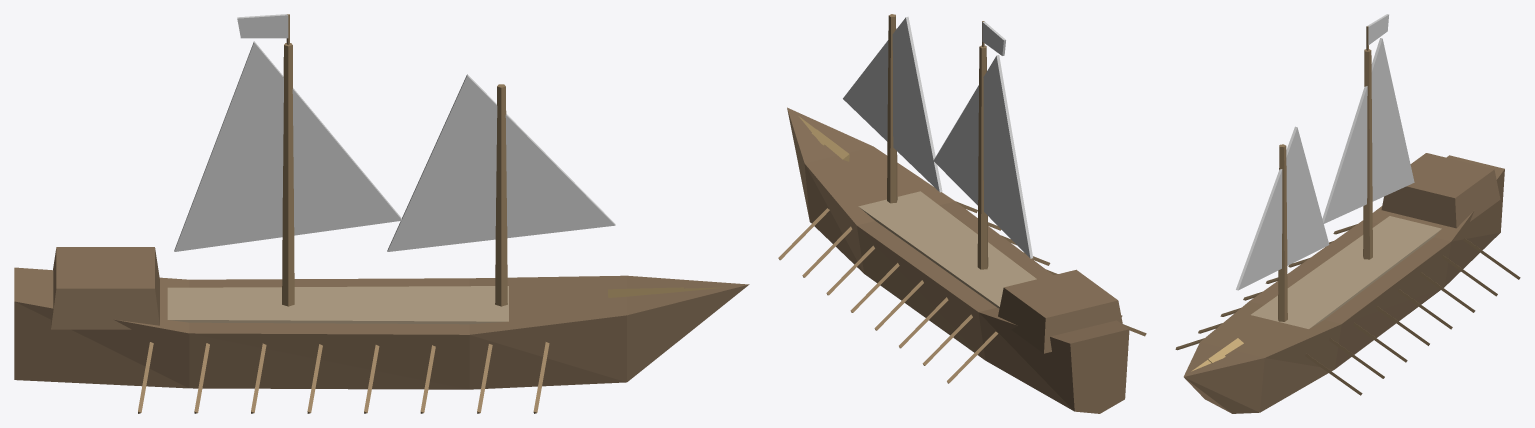
Rendered from galleass.glb.
The picture shows the model from 3 angles, left to right: view 1: azimuth 30°, elevation 25°; view 2: azimuth 150°, elevation 25°; view 3: azimuth 270°, elevation 25°; orthographic projection. The views are drawn at different scales.
Parts seen in each view (by area): view 1: LOD0; view 2: LOD0; view 3: LOD0.
Boxes of the visible parts, x1,y1,x2,y2 form: LOD0: [14, 14, 749, 413]; LOD0: [778, 14, 1146, 413]; LOD0: [1175, 14, 1520, 413].
Size of what is drawn, in the model's own units: 2.16 by 1.31 by 1.42.
